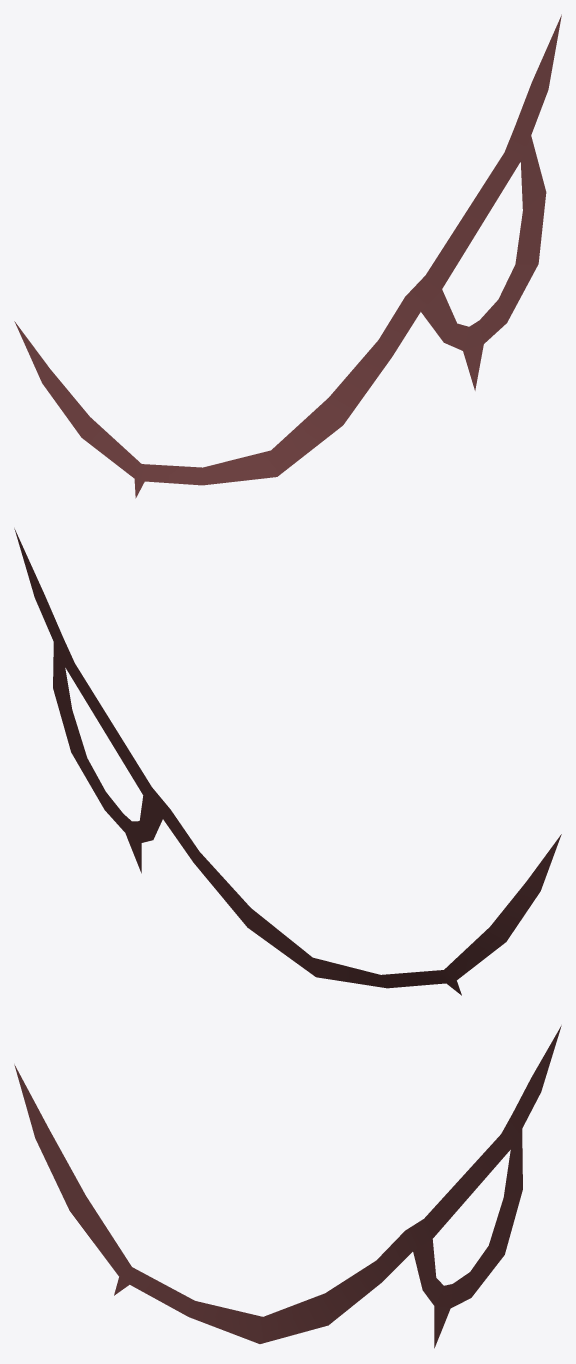
The model's file is Liana_1b.fbx.
3 views of the same model, one above another, from view 1: azimuth 30°, elevation 25°; view 2: azimuth 150°, elevation 25°; view 3: azimuth 330°, elevation 25° (orthographic).
Visible parts, largest first — view 1: Liana_1b; view 2: Liana_1b; view 3: Liana_1b.
Boxes of the visible parts, bbox=[...] form: Liana_1b: bbox=[14, 14, 561, 498]; Liana_1b: bbox=[14, 528, 561, 995]; Liana_1b: bbox=[14, 1025, 561, 1348].
Size of the model in its own units: 76.43 by 51.32 by 4.95.
1 material, 1 textured.
